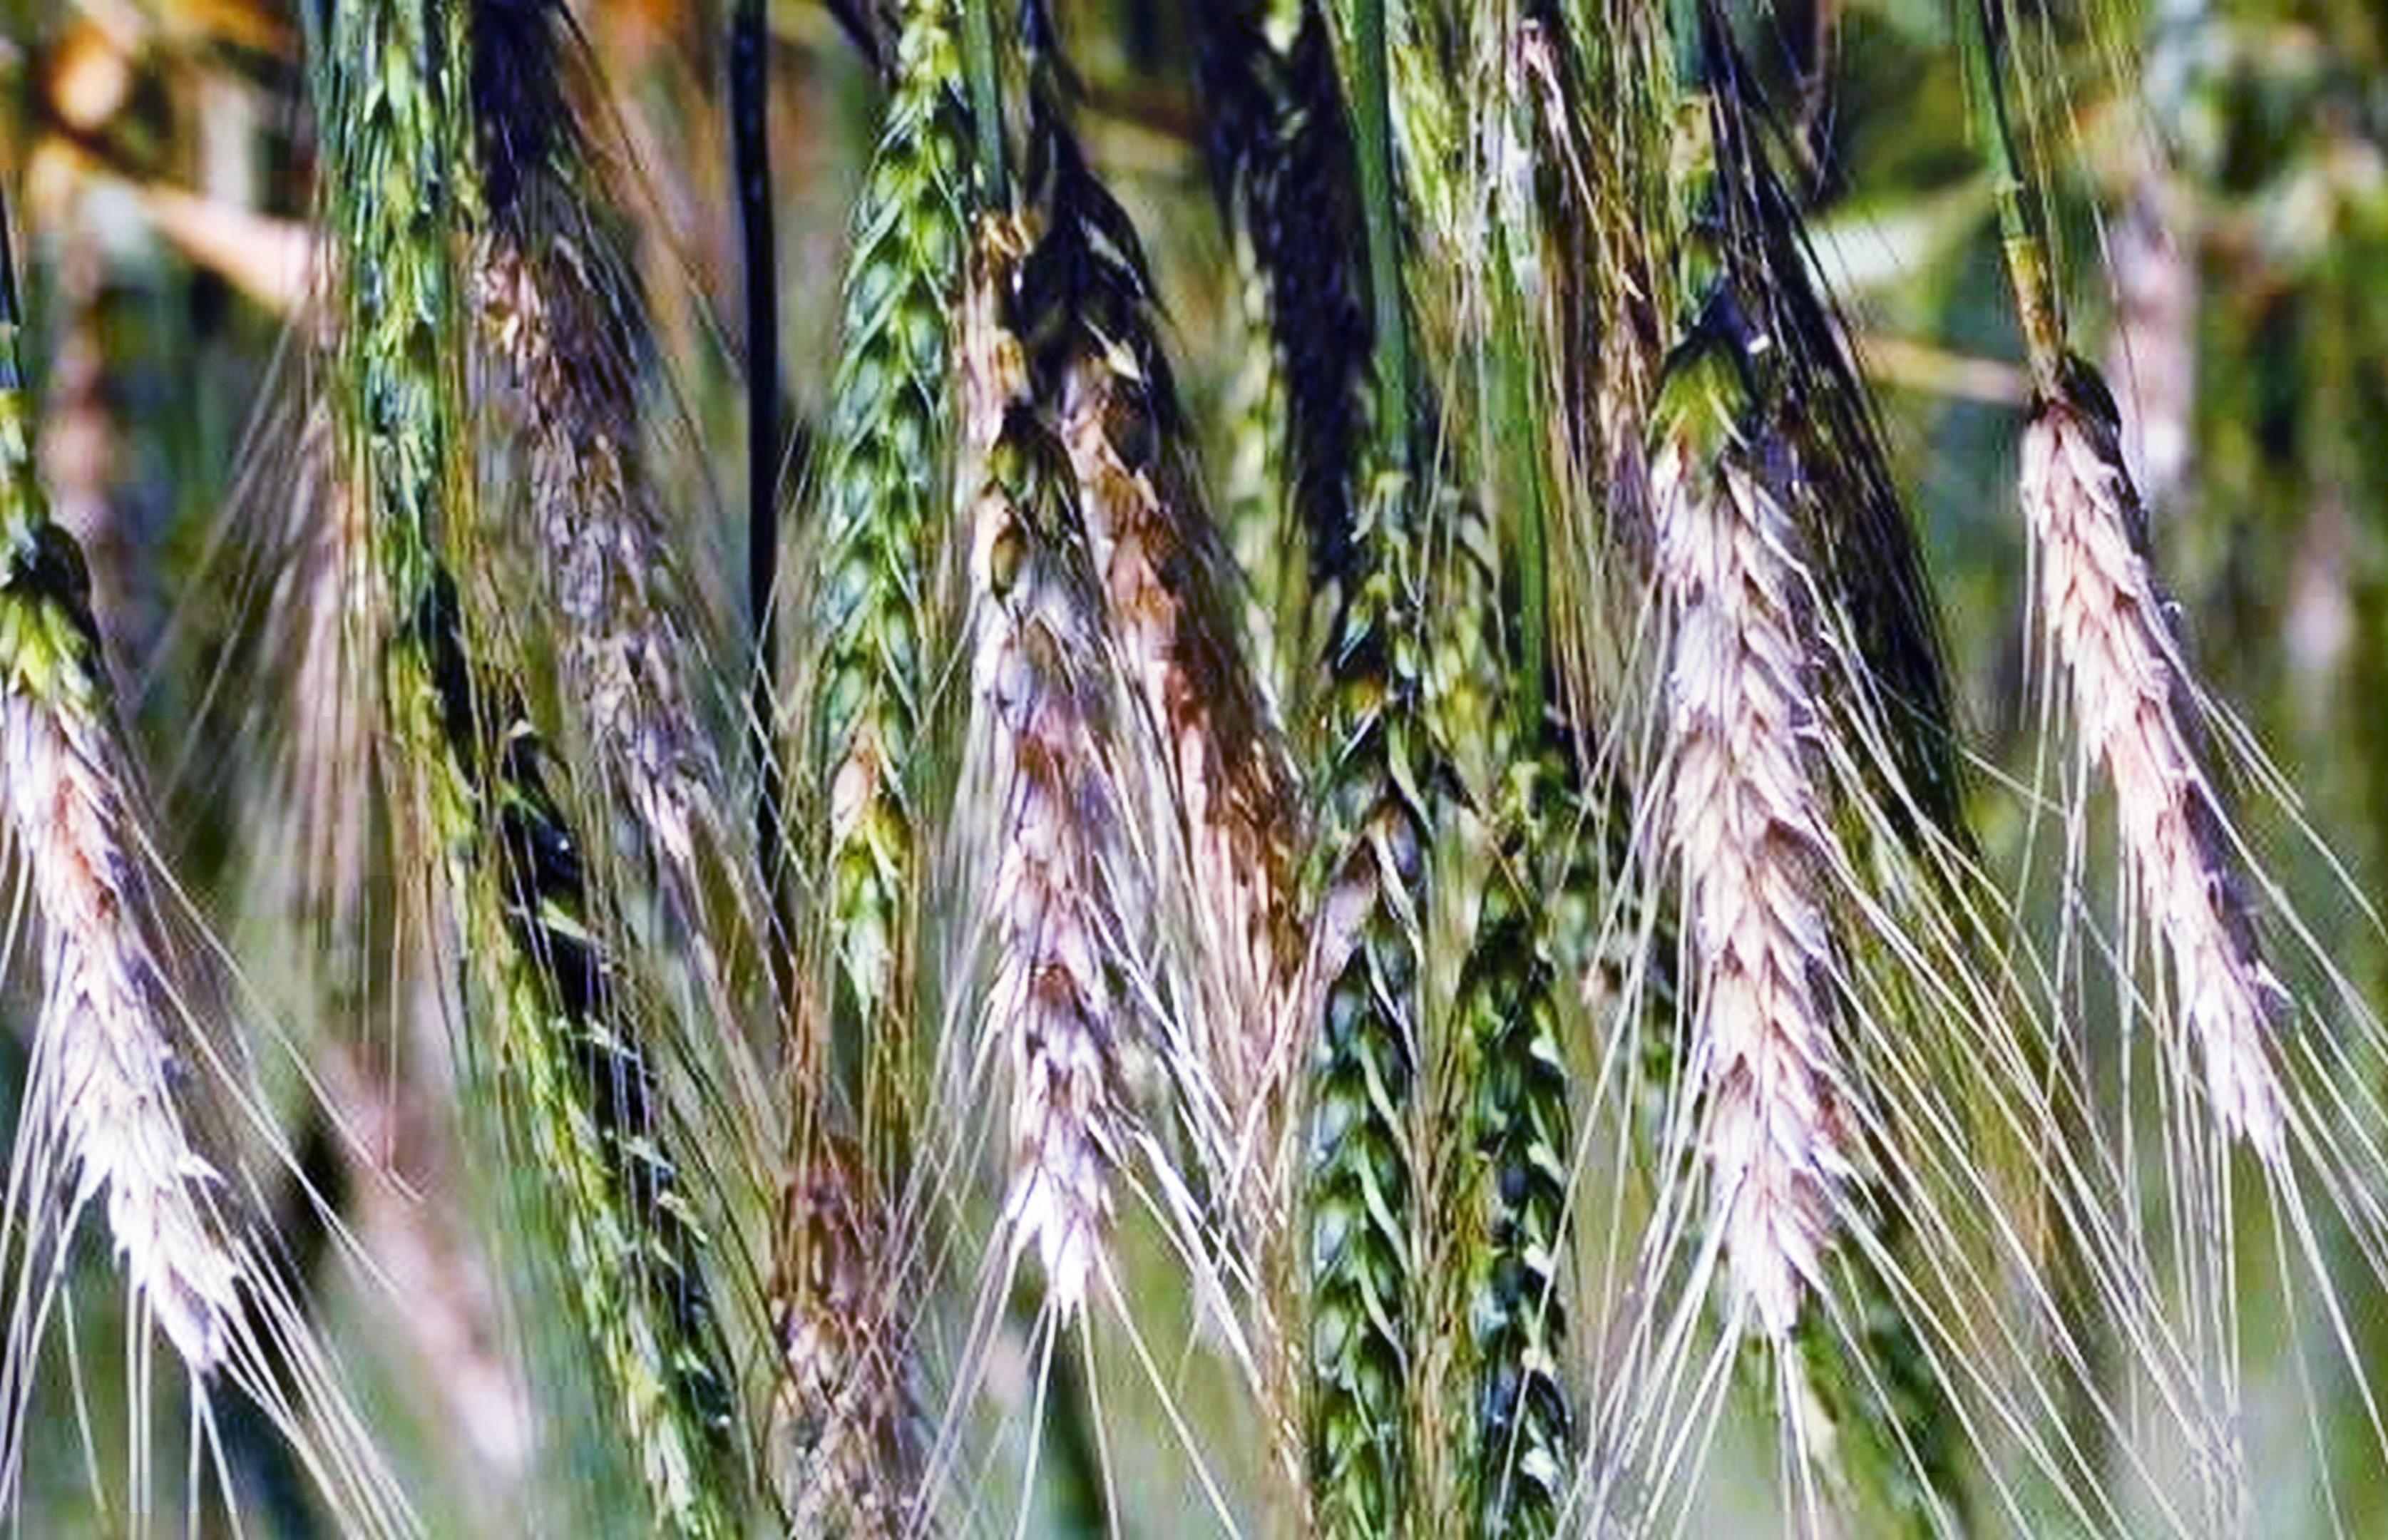Wheat scab: (1993, 331, 2376, 1218), (1647, 226, 1859, 1382), (9, 506, 296, 1354), (940, 409, 1166, 1312)
